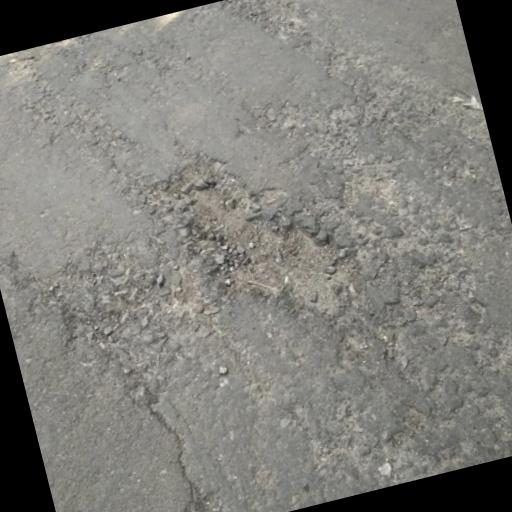pothole: (130, 120, 366, 351)
